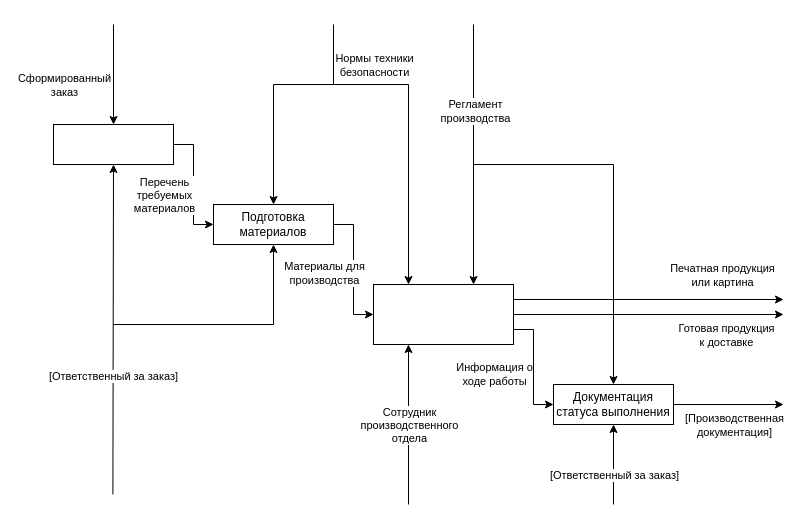
Some shapes in this 809 by 530 pixel diagram are drawn without their labels. Here are the shapes that lost their labels. From the top down, the centre of each, then its label:
point 113,144: Определение типов работ
point 443,314: Типографические работы (оформление в багет)
